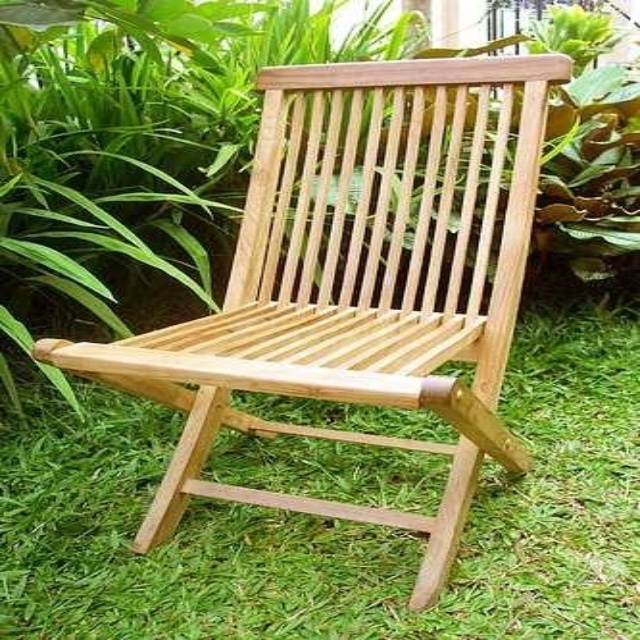obstacle: (33, 55, 569, 608)
